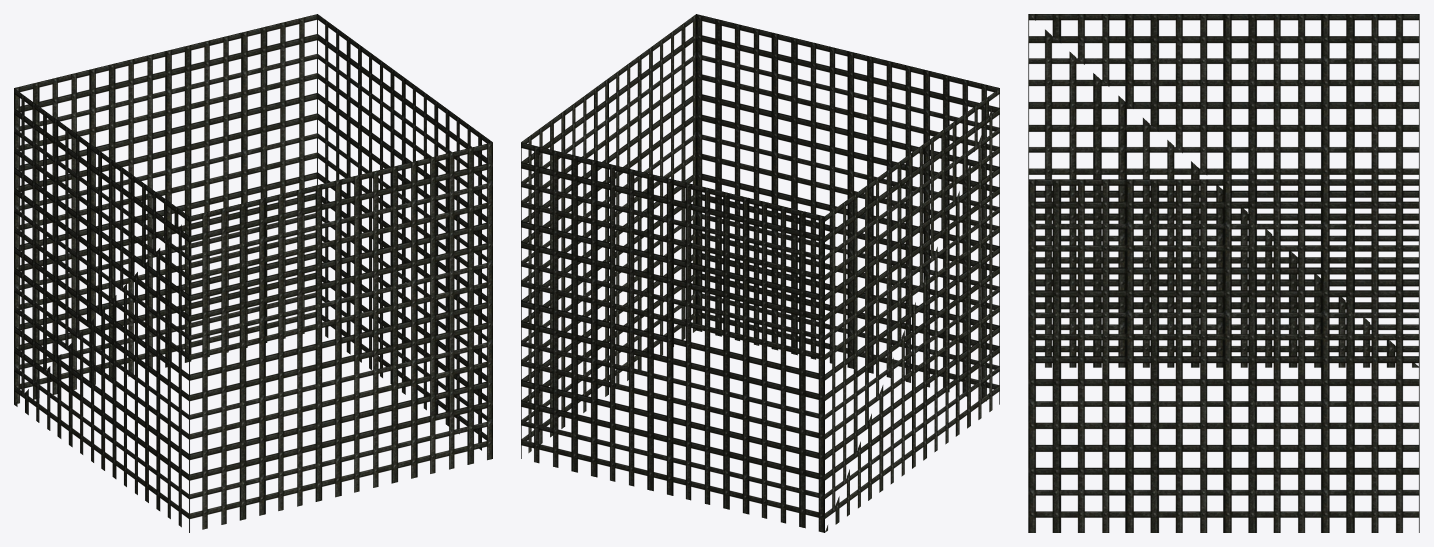
Rendered from krata2.glb.
3 views of the same model, side by side, from view 1: azimuth 30°, elevation 25°; view 2: azimuth 150°, elevation 25°; view 3: azimuth 270°, elevation 25° (orthographic). The views are drawn at different scales.
Visible parts, largest first — view 1: zengin01.001, zengin01; view 2: zengin01.001, zengin01; view 3: zengin01.001, zengin01.
Part boxes in pixels (left/top/right/bottom): zengin01.001: left=14, top=88, right=492, bottom=532; zengin01: left=14, top=14, right=492, bottom=450; zengin01.001: left=521, top=88, right=999, bottom=532; zengin01: left=521, top=14, right=999, bottom=452; zengin01.001: left=1028, top=179, right=1419, bottom=532; zengin01: left=1028, top=14, right=1419, bottom=367.
Bounding box in the file's own units: 4 × 3.99 × 4.
2 materials, 2 textured.
